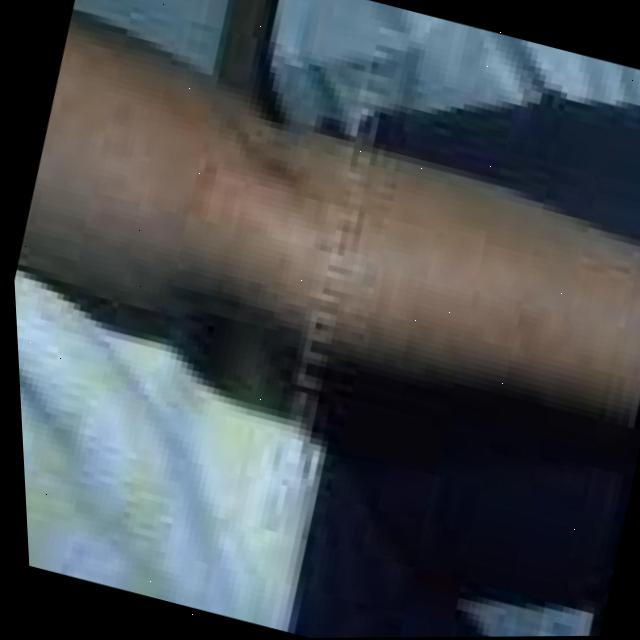Melasma: (17, 63, 239, 270)
